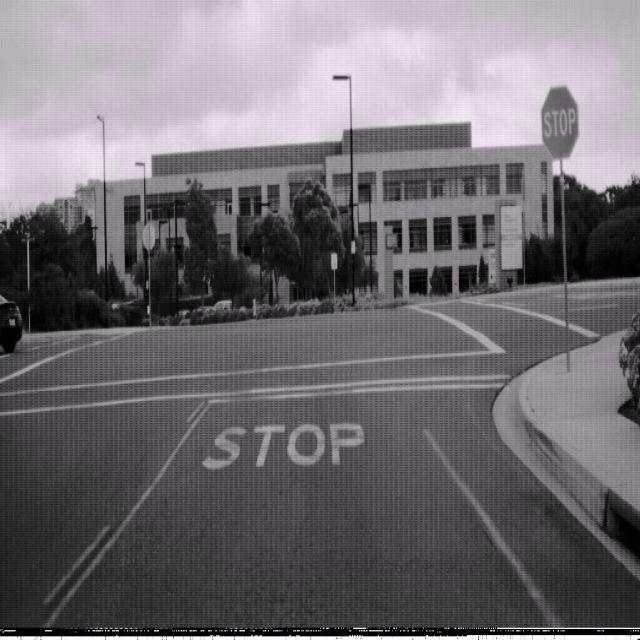stop: (540, 84, 579, 160)
